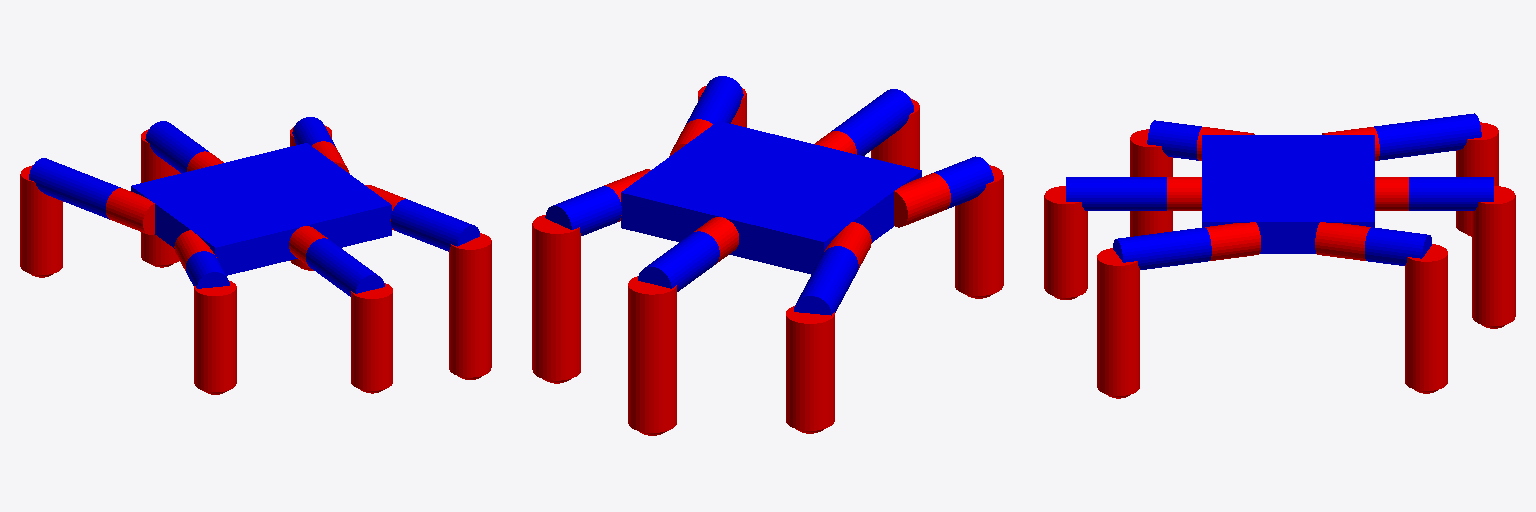
--- What the picture shows (computed from the rendered views, not written in the file) ---
3 views of the same robot in one strip: view 1: azimuth 30°, elevation 25°; view 2: azimuth 150°, elevation 25°; view 3: azimuth 270°, elevation 25° (orthographic).
Model pexod with 19 links and 18 joints (18 revolute), rooted at base_link, posed all joints at 0.
Links seen in each view (by area): view 1: base_link, leg_3_3, leg_5_3, leg_4_3, leg_0_3, leg_0_2, leg_3_2, leg_4_2, leg_1_3, leg_1_2, leg_0_1, leg_5_2 (+3 smaller); view 2: base_link, leg_2_3, leg_1_3, leg_0_3, leg_5_3, leg_1_2, leg_0_2, leg_4_2, leg_2_2, leg_5_1, leg_3_2, leg_5_2 (+5 smaller); view 3: base_link, leg_3_3, leg_2_3, leg_1_3, leg_4_3, leg_0_2, leg_4_2, leg_3_2, leg_1_2, leg_5_3, leg_0_3, leg_2_2 (+5 smaller).
Boxes of the visible links, x1=… form: base_link: x1=131, y1=143, x2=391, y2=275; leg_3_3: x1=449, y1=233, x2=491, y2=379; leg_5_3: x1=194, y1=281, x2=236, y2=394; leg_4_3: x1=351, y1=283, x2=392, y2=393; leg_0_3: x1=20, y1=165, x2=62, y2=277; leg_0_2: x1=29, y1=158, x2=120, y2=219; leg_3_2: x1=391, y1=199, x2=479, y2=251; leg_4_2: x1=306, y1=238, x2=384, y2=296; leg_1_3: x1=141, y1=129, x2=180, y2=267; leg_1_2: x1=145, y1=121, x2=208, y2=172; leg_0_1: x1=106, y1=188, x2=154, y2=234; leg_5_2: x1=186, y1=251, x2=229, y2=288; base_link: x1=621, y1=121, x2=921, y2=274; leg_2_3: x1=532, y1=215, x2=580, y2=383; leg_1_3: x1=628, y1=276, x2=676, y2=435; leg_0_3: x1=786, y1=306, x2=834, y2=433; leg_5_3: x1=955, y1=165, x2=1003, y2=298; leg_1_2: x1=638, y1=231, x2=719, y2=291; leg_0_2: x1=794, y1=246, x2=858, y2=315; leg_4_2: x1=831, y1=89, x2=913, y2=155; leg_2_2: x1=545, y1=186, x2=621, y2=235; leg_5_1: x1=894, y1=173, x2=950, y2=227; leg_3_2: x1=685, y1=76, x2=743, y2=125; leg_5_2: x1=931, y1=156, x2=993, y2=209; base_link: x1=1202, y1=135, x2=1374, y2=253; leg_3_3: x1=1097, y1=248, x2=1139, y2=398; leg_2_3: x1=1405, y1=244, x2=1447, y2=393; leg_1_3: x1=1472, y1=186, x2=1515, y2=328; leg_4_3: x1=1044, y1=186, x2=1087, y2=299; leg_0_2: x1=1374, y1=113, x2=1481, y2=160; leg_4_2: x1=1066, y1=177, x2=1166, y2=210; leg_3_2: x1=1113, y1=227, x2=1211, y2=269; leg_1_2: x1=1409, y1=177, x2=1493, y2=210; leg_5_3: x1=1130, y1=129, x2=1172, y2=236; leg_0_3: x1=1456, y1=122, x2=1498, y2=236; leg_2_2: x1=1365, y1=227, x2=1431, y2=265.
Size in the robot's own frame: 0.3935 by 0.5455 by 0.1987 metres.
Geometry: primitives only (box / cylinder / sphere), no mesh files.

The robot description file, URDF, robot "pexod":
<?xml version="1.0" ?>
<!-- =================================================================================== -->
<!-- |    This document was autogenerated by xacro from pexod.xacro                    | -->
<!-- |    EDITING THIS FILE BY HAND IS NOT RECOMMENDED                                 | -->
<!-- =================================================================================== -->
<robot name="pexod" xmlns:xacro="http://www.ros.org/wiki/xacro">
  <!-- <xacro:include filename="$(find pexod_description)/urdf/pexod_control.xacro" /> -->
  <!-- MATERIALS -->
  <material name="Blue">
    <color rgba="0 0 1 1"/>
  </material>
  <material name="Red">
    <color rgba="1 0 0 1"/>
  </material>
  <material name="Green">
    <color rgba="0 1 0 1"/>
  </material>
  <material name="Yellow">
    <color rgba="1 1 0 1"/>
  </material>
  <material name="LightGrey">
    <color rgba="0.6 0.6 0.6 1.0"/>
  </material>
  <!-- END OF MATERIALS -->
  <!-- XACRO MACROS FOR VISUALS AND COLLISIONS -->
  <!-- END OF XACRO MACROS -->
  <!-- TORSO -->
  <link name="base_link">
    <visual>
      <origin rpy="0 0 0" xyz="0 0 0"/>
      <geometry>
        <box size="0.24 0.2 0.04"/>
      </geometry>
      <material name="Blue"/>
    </visual>
    <collision>
      <origin rpy="0 0 0" xyz="0 0 0"/>
      <geometry>
        <box size="0.24 0.2 0.04"/>
      </geometry>
    </collision>
    <inertial>
      <!-- CENTER OF MASS -->
      <origin rpy="0 0 0" xyz="0 0 0"/>
      <mass value="1.031"/>
      <!-- box inertia: 1/12*m(y^2+z^2), ... -->
      <inertia ixx="0.00357413333333" ixy="0" ixz="0" iyy="0.00508626666667" iyz="0" izz="0.00838546666667"/>
    </inertial>
  </link>
  <!-- XACRO MACRO FOR LEGS LINKS/JOINTS -->
  <!-- END OF LEG LINKS/JOINTS -->
  <joint name="body_leg_2" type="revolute">
    <parent link="base_link"/>
    <child link="leg_2_1"/>
    <limit effort="30.0" lower="-1.57079632679" upper="1.57079632679" velocity="7.0"/>
    <origin rpy="0 0 -0.3" xyz="0.11 0.04 0"/>
    <!-- <xacro:if value="${index == 5 or index == 4 or index == 3}">
                <axis xyz="0 0 1"/>
            </xacro:if>
            <xacro:if value="${index == 2 or index == 1 or index == 0}"> -->
    <axis xyz="0 0 1"/>
    <!-- </xacro:if> -->
    <dynamics damping="0.0"/>
  </joint>
  <link name="leg_2_1">
    <visual>
      <origin rpy="1.57079632679 0 0" xyz="0.01 0.03 0"/>
      <geometry>
        <cylinder length="0.06" radius="0.02"/>
      </geometry>
      <material name="Red"/>
    </visual>
    <collision>
      <origin rpy="1.57079632679 0 0" xyz="0.01 0.03 0"/>
      <geometry>
        <box size="0.02 0.02 0.06"/>
      </geometry>
    </collision>
    <inertial>
      <!-- CENTER OF MASS -->
      <origin rpy="1.57079632679 0 0" xyz="0.01 0.03 0"/>
      <mass value="0.02"/>
      <!-- box inertia: 1/12*m(y^2+z^2), ... -->
      <inertia ixx="6.66666666667e-06" ixy="0" ixz="0" iyy="6.66666666667e-06" iyz="0" izz="1.33333333333e-06"/>
    </inertial>
  </link>
  <joint name="leg_2_1_2" type="revolute">
    <parent link="leg_2_1"/>
    <child link="leg_2_2"/>
    <limit effort="30.0" lower="-0.78539816339" upper="0.78539816339" velocity="7.0"/>
    <origin rpy="0 0 0" xyz="0 0.06 0"/>
    <axis xyz="1 0 0"/>
    <dynamics damping="0.0"/>
  </joint>
  <link name="leg_2_2">
    <visual>
      <origin rpy="1.57079632679 0 0" xyz="0.01 0.034887120099 0"/>
      <geometry>
        <cylinder length="0.069774240198" radius="0.02"/>
      </geometry>
      <material name="Blue"/>
    </visual>
    <collision>
      <origin rpy="1.57079632679 0 0" xyz="0.01 0.034887120099 0"/>
      <geometry>
        <box size="0.02 0.02 0.069774240198"/>
      </geometry>
    </collision>
    <inertial>
      <!-- CENTER OF MASS -->
      <origin rpy="1.57079632679 0 0" xyz="0.01 0.034887120099 0"/>
      <mass value="0.184"/>
      <!-- box inertia: 1/12*m(y^2+z^2), ... -->
      <inertia ixx="8.07828171265e-05" ixy="0" ixz="0" iyy="8.07828171265e-05" iyz="0" izz="1.22666666667e-05"/>
    </inertial>
  </link>
  <joint name="leg_2_2_3" type="revolute">
    <parent link="leg_2_2"/>
    <child link="leg_2_3"/>
    <limit effort="30.0" lower="-0.78539816339" upper="0.78539816339" velocity="7.0"/>
    <origin rpy="-1.57079632679 0 0" xyz="0 0.069774240198 0"/>
    <axis xyz="-1 0 0"/>
    <dynamics damping="0.0"/>
  </joint>
  <link name="leg_2_3">
    <visual>
      <origin rpy="1.57079632679 0 0" xyz="0.0125 0.082605903837 0"/>
      <geometry>
        <cylinder length="0.165211807674" radius="0.025"/>
      </geometry>
      <material name="Red"/>
    </visual>
    <visual>
      <origin rpy="1.57079632679 0 0" xyz="0.0125 0.152711807674 0"/>
      <geometry>
        <sphere radius="0.025"/>
      </geometry>
      <material name="Red"/>
    </visual>
    <collision>
      <origin rpy="1.57079632679 0 0" xyz="0.0125 0.082605903837 0"/>
      <geometry>
        <box size="0.025 0.025 0.165211807674"/>
      </geometry>
    </collision>
    <collision>
      <origin rpy="1.57079632679 0 0" xyz="0.0125 0.152711807674 0"/>
      <geometry>
        <sphere radius="0.025"/>
      </geometry>
      <material name="Red"/>
    </collision>
    <inertial>
      <!-- CENTER OF MASS -->
      <origin rpy="1.57079632679 0 0" xyz="0.0125 0.082605903837 0"/>
      <mass value="0.04"/>
      <!-- box inertia: 1/12*m(y^2+z^2), ... -->
      <inertia ixx="9.30664713164e-05" ixy="0" ixz="0" iyy="9.30664713164e-05" iyz="0" izz="4.16666666667e-06"/>
    </inertial>
  </link>
  <joint name="body_leg_3" type="revolute">
    <parent link="base_link"/>
    <child link="leg_3_1"/>
    <limit effort="30.0" lower="-1.57079632679" upper="1.57079632679" velocity="7.0"/>
    <origin rpy="0 0 0.3" xyz="0.11 -0.04 0"/>
    <!-- <xacro:if value="${index == 5 or index == 4 or index == 3}">
                <axis xyz="0 0 1"/>
            </xacro:if>
            <xacro:if value="${index == 2 or index == 1 or index == 0}"> -->
    <axis xyz="0 0 1"/>
    <!-- </xacro:if> -->
    <dynamics damping="0.0"/>
  </joint>
  <link name="leg_3_1">
    <visual>
      <origin rpy="1.57079632679 0 0" xyz="0.01 -0.03 0"/>
      <geometry>
        <cylinder length="0.06" radius="0.02"/>
      </geometry>
      <material name="Red"/>
    </visual>
    <collision>
      <origin rpy="1.57079632679 0 0" xyz="0.01 -0.03 0"/>
      <geometry>
        <box size="0.02 0.02 0.06"/>
      </geometry>
    </collision>
    <inertial>
      <!-- CENTER OF MASS -->
      <origin rpy="1.57079632679 0 0" xyz="0.01 -0.03 0"/>
      <mass value="0.02"/>
      <!-- box inertia: 1/12*m(y^2+z^2), ... -->
      <inertia ixx="6.66666666667e-06" ixy="0" ixz="0" iyy="6.66666666667e-06" iyz="0" izz="1.33333333333e-06"/>
    </inertial>
  </link>
  <joint name="leg_3_1_2" type="revolute">
    <parent link="leg_3_1"/>
    <child link="leg_3_2"/>
    <limit effort="30.0" lower="-0.78539816339" upper="0.78539816339" velocity="7.0"/>
    <origin rpy="0 0 0" xyz="0 -0.06 0"/>
    <axis xyz="-1 0 0"/>
    <dynamics damping="0.0"/>
  </joint>
  <link name="leg_3_2">
    <visual>
      <origin rpy="1.57079632679 0 0" xyz="0.01 -0.053674928285 0"/>
      <geometry>
        <cylinder length="0.10734985657" radius="0.02"/>
      </geometry>
      <material name="Blue"/>
    </visual>
    <collision>
      <origin rpy="1.57079632679 0 0" xyz="0.01 -0.053674928285 0"/>
      <geometry>
        <box size="0.02 0.02 0.10734985657"/>
      </geometry>
    </collision>
    <inertial>
      <!-- CENTER OF MASS -->
      <origin rpy="1.57079632679 0 0" xyz="0.01 -0.053674928285 0"/>
      <mass value="0.184"/>
      <!-- box inertia: 1/12*m(y^2+z^2), ... -->
      <inertia ixx="0.000182834539486" ixy="0" ixz="0" iyy="0.000182834539486" iyz="0" izz="1.22666666667e-05"/>
    </inertial>
  </link>
  <joint name="leg_3_2_3" type="revolute">
    <parent link="leg_3_2"/>
    <child link="leg_3_3"/>
    <limit effort="30.0" lower="-0.78539816339" upper="0.78539816339" velocity="7.0"/>
    <origin rpy="1.57079632679 0 0" xyz="0 -0.10734985657 0"/>
    <axis xyz="1 0 0"/>
    <dynamics damping="0.0"/>
  </joint>
  <link name="leg_3_3">
    <visual>
      <origin rpy="1.57079632679 0 0" xyz="0.0125 -0.0831220686235 0"/>
      <geometry>
        <cylinder length="0.166244137247" radius="0.025"/>
      </geometry>
      <material name="Red"/>
    </visual>
    <visual>
      <origin rpy="1.57079632679 0 0" xyz="0.0125 -0.153744137247 0"/>
      <geometry>
        <sphere radius="0.025"/>
      </geometry>
      <material name="Red"/>
    </visual>
    <collision>
      <origin rpy="1.57079632679 0 0" xyz="0.0125 -0.0831220686235 0"/>
      <geometry>
        <box size="0.025 0.025 0.166244137247"/>
      </geometry>
    </collision>
    <collision>
      <origin rpy="1.57079632679 0 0" xyz="0.0125 -0.153744137247 0"/>
      <geometry>
        <sphere radius="0.025"/>
      </geometry>
      <material name="Red"/>
    </collision>
    <inertial>
      <!-- CENTER OF MASS -->
      <origin rpy="1.57079632679 0 0" xyz="0.0125 -0.0831220686235 0"/>
      <mass value="0.04"/>
      <!-- box inertia: 1/12*m(y^2+z^2), ... -->
      <inertia ixx="9.42070438967e-05" ixy="0" ixz="0" iyy="9.42070438967e-05" iyz="0" izz="4.16666666667e-06"/>
    </inertial>
  </link>
  <joint name="body_leg_0" type="revolute">
    <parent link="base_link"/>
    <child link="leg_0_1"/>
    <limit effort="30.0" lower="-1.57079632679" upper="1.57079632679" velocity="7.0"/>
    <origin rpy="0 0 0.3" xyz="-0.13 0.04 0"/>
    <!-- <xacro:if value="${index == 5 or index == 4 or index == 3}">
                <axis xyz="0 0 1"/>
            </xacro:if>
            <xacro:if value="${index == 2 or index == 1 or index == 0}"> -->
    <axis xyz="0 0 1"/>
    <!-- </xacro:if> -->
    <dynamics damping="0.0"/>
  </joint>
  <link name="leg_0_1">
    <visual>
      <origin rpy="1.57079632679 0 0" xyz="0.01 0.03 0"/>
      <geometry>
        <cylinder length="0.06" radius="0.02"/>
      </geometry>
      <material name="Red"/>
    </visual>
    <collision>
      <origin rpy="1.57079632679 0 0" xyz="0.01 0.03 0"/>
      <geometry>
        <box size="0.02 0.02 0.06"/>
      </geometry>
    </collision>
    <inertial>
      <!-- CENTER OF MASS -->
      <origin rpy="1.57079632679 0 0" xyz="0.01 0.03 0"/>
      <mass value="0.02"/>
      <!-- box inertia: 1/12*m(y^2+z^2), ... -->
      <inertia ixx="6.66666666667e-06" ixy="0" ixz="0" iyy="6.66666666667e-06" iyz="0" izz="1.33333333333e-06"/>
    </inertial>
  </link>
  <joint name="leg_0_1_2" type="revolute">
    <parent link="leg_0_1"/>
    <child link="leg_0_2"/>
    <limit effort="30.0" lower="-0.78539816339" upper="0.78539816339" velocity="7.0"/>
    <origin rpy="0 0 0" xyz="0 0.06 0"/>
    <axis xyz="1 0 0"/>
    <dynamics damping="0.0"/>
  </joint>
  <link name="leg_0_2">
    <visual>
      <origin rpy="1.57079632679 0 0" xyz="0.01 0.0617747497725 0"/>
      <geometry>
        <cylinder length="0.123549499545" radius="0.02"/>
      </geometry>
      <material name="Blue"/>
    </visual>
    <collision>
      <origin rpy="1.57079632679 0 0" xyz="0.01 0.0617747497725 0"/>
      <geometry>
        <box size="0.02 0.02 0.123549499545"/>
      </geometry>
    </collision>
    <inertial>
      <!-- CENTER OF MASS -->
      <origin rpy="1.57079632679 0 0" xyz="0.01 0.0617747497725 0"/>
      <mass value="0.184"/>
      <!-- box inertia: 1/12*m(y^2+z^2), ... -->
      <inertia ixx="0.000240188675513" ixy="0" ixz="0" iyy="0.000240188675513" iyz="0" izz="1.22666666667e-05"/>
    </inertial>
  </link>
  <joint name="leg_0_2_3" type="revolute">
    <parent link="leg_0_2"/>
    <child link="leg_0_3"/>
    <limit effort="30.0" lower="-0.78539816339" upper="0.78539816339" velocity="7.0"/>
    <origin rpy="-1.57079632679 0 0" xyz="0 0.123549499545 0"/>
    <axis xyz="-1 0 0"/>
    <dynamics damping="0.0"/>
  </joint>
  <link name="leg_0_3">
    <visual>
      <origin rpy="1.57079632679 0 0" xyz="0.0125 0.060247364143 0"/>
      <geometry>
        <cylinder length="0.120494728286" radius="0.025"/>
      </geometry>
      <material name="Red"/>
    </visual>
    <visual>
      <origin rpy="1.57079632679 0 0" xyz="0.0125 0.107994728286 0"/>
      <geometry>
        <sphere radius="0.025"/>
      </geometry>
      <material name="Red"/>
    </visual>
    <collision>
      <origin rpy="1.57079632679 0 0" xyz="0.0125 0.060247364143 0"/>
      <geometry>
        <box size="0.025 0.025 0.120494728286"/>
      </geometry>
    </collision>
    <collision>
      <origin rpy="1.57079632679 0 0" xyz="0.0125 0.107994728286 0"/>
      <geometry>
        <sphere radius="0.025"/>
      </geometry>
      <material name="Red"/>
    </collision>
    <inertial>
      <!-- CENTER OF MASS -->
      <origin rpy="1.57079632679 0 0" xyz="0.0125 0.060247364143 0"/>
      <mass value="0.04"/>
      <!-- box inertia: 1/12*m(y^2+z^2), ... -->
      <inertia ixx="5.04799318157e-05" ixy="0" ixz="0" iyy="5.04799318157e-05" iyz="0" izz="4.16666666667e-06"/>
    </inertial>
  </link>
  <joint name="body_leg_5" type="revolute">
    <parent link="base_link"/>
    <child link="leg_5_1"/>
    <limit effort="30.0" lower="-1.57079632679" upper="1.57079632679" velocity="7.0"/>
    <origin rpy="0 0 -0.3" xyz="-0.13 -0.04 0"/>
    <!-- <xacro:if value="${index == 5 or index == 4 or index == 3}">
                <axis xyz="0 0 1"/>
            </xacro:if>
            <xacro:if value="${index == 2 or index == 1 or index == 0}"> -->
    <axis xyz="0 0 1"/>
    <!-- </xacro:if> -->
    <dynamics damping="0.0"/>
  </joint>
  <link name="leg_5_1">
    <visual>
      <origin rpy="1.57079632679 0 0" xyz="0.01 -0.03 0"/>
      <geometry>
        <cylinder length="0.06" radius="0.02"/>
      </geometry>
      <material name="Red"/>
    </visual>
    <collision>
      <origin rpy="1.57079632679 0 0" xyz="0.01 -0.03 0"/>
      <geometry>
        <box size="0.02 0.02 0.06"/>
      </geometry>
    </collision>
    <inertial>
      <!-- CENTER OF MASS -->
      <origin rpy="1.57079632679 0 0" xyz="0.01 -0.03 0"/>
      <mass value="0.02"/>
      <!-- box inertia: 1/12*m(y^2+z^2), ... -->
      <inertia ixx="6.66666666667e-06" ixy="0" ixz="0" iyy="6.66666666667e-06" iyz="0" izz="1.33333333333e-06"/>
    </inertial>
  </link>
  <joint name="leg_5_1_2" type="revolute">
    <parent link="leg_5_1"/>
    <child link="leg_5_2"/>
    <limit effort="30.0" lower="-0.78539816339" upper="0.78539816339" velocity="7.0"/>
    <origin rpy="0 0 0" xyz="0 -0.06 0"/>
    <axis xyz="-1 0 0"/>
    <dynamics damping="0.0"/>
  </joint>
  <link name="leg_5_2">
    <visual>
      <origin rpy="1.57079632679 0 0" xyz="0.01 -0.029818570301 0"/>
      <geometry>
        <cylinder length="0.0596371406019" radius="0.02"/>
      </geometry>
      <material name="Blue"/>
    </visual>
    <collision>
      <origin rpy="1.57079632679 0 0" xyz="0.01 -0.029818570301 0"/>
      <geometry>
        <box size="0.02 0.02 0.0596371406019"/>
      </geometry>
    </collision>
    <inertial>
      <!-- CENTER OF MASS -->
      <origin rpy="1.57079632679 0 0" xyz="0.01 -0.029818570301 0"/>
      <mass value="0.184"/>
      <!-- box inertia: 1/12*m(y^2+z^2), ... -->
      <inertia ixx="6.0667690934e-05" ixy="0" ixz="0" iyy="6.0667690934e-05" iyz="0" izz="1.22666666667e-05"/>
    </inertial>
  </link>
  <joint name="leg_5_2_3" type="revolute">
    <parent link="leg_5_2"/>
    <child link="leg_5_3"/>
    <limit effort="30.0" lower="-0.78539816339" upper="0.78539816339" velocity="7.0"/>
    <origin rpy="1.57079632679 0 0" xyz="0 -0.0596371406019 0"/>
    <axis xyz="1 0 0"/>
    <dynamics damping="0.0"/>
  </joint>
  <link name="leg_5_3">
    <visual>
      <origin rpy="1.57079632679 0 0" xyz="0.0125 -0.062587784669 0"/>
      <geometry>
        <cylinder length="0.125175569338" radius="0.025"/>
      </geometry>
      <material name="Red"/>
    </visual>
    <visual>
      <origin rpy="1.57079632679 0 0" xyz="0.0125 -0.112675569338 0"/>
      <geometry>
        <sphere radius="0.025"/>
      </geometry>
      <material name="Red"/>
    </visual>
    <collision>
      <origin rpy="1.57079632679 0 0" xyz="0.0125 -0.062587784669 0"/>
      <geometry>
        <box size="0.025 0.025 0.125175569338"/>
      </geometry>
    </collision>
    <collision>
      <origin rpy="1.57079632679 0 0" xyz="0.0125 -0.112675569338 0"/>
      <geometry>
        <sphere radius="0.025"/>
      </geometry>
      <material name="Red"/>
    </collision>
    <inertial>
      <!-- CENTER OF MASS -->
      <origin rpy="1.57079632679 0 0" xyz="0.0125 -0.062587784669 0"/>
      <mass value="0.04"/>
      <!-- box inertia: 1/12*m(y^2+z^2), ... -->
      <inertia ixx="5.4313077197e-05" ixy="0" ixz="0" iyy="5.4313077197e-05" iyz="0" izz="4.16666666667e-06"/>
    </inertial>
  </link>
  <joint name="body_leg_1" type="revolute">
    <parent link="base_link"/>
    <child link="leg_1_1"/>
    <limit effort="30.0" lower="-1.57079632679" upper="1.57079632679" velocity="7.0"/>
    <origin rpy="0 0 0" xyz="-0.01 0.08 0"/>
    <!-- <xacro:if value="${index == 5 or index == 4 or index == 3}">
                <axis xyz="0 0 1"/>
            </xacro:if>
            <xacro:if value="${index == 2 or index == 1 or index == 0}"> -->
    <axis xyz="0 0 1"/>
    <!-- </xacro:if> -->
    <dynamics damping="0.0"/>
  </joint>
  <link name="leg_1_1">
    <visual>
      <origin rpy="1.57079632679 0 0" xyz="0.01 0.03 0"/>
      <geometry>
        <cylinder length="0.06" radius="0.02"/>
      </geometry>
      <material name="Red"/>
    </visual>
    <collision>
      <origin rpy="1.57079632679 0 0" xyz="0.01 0.03 0"/>
      <geometry>
        <box size="0.02 0.02 0.06"/>
      </geometry>
    </collision>
    <inertial>
      <!-- CENTER OF MASS -->
      <origin rpy="1.57079632679 0 0" xyz="0.01 0.03 0"/>
      <mass value="0.02"/>
      <!-- box inertia: 1/12*m(y^2+z^2), ... -->
      <inertia ixx="6.66666666667e-06" ixy="0" ixz="0" iyy="6.66666666667e-06" iyz="0" izz="1.33333333333e-06"/>
    </inertial>
  </link>
  <joint name="leg_1_1_2" type="revolute">
    <parent link="leg_1_1"/>
    <child link="leg_1_2"/>
    <limit effort="30.0" lower="-0.78539816339" upper="0.78539816339" velocity="7.0"/>
    <origin rpy="0 0 0" xyz="0 0.06 0"/>
    <axis xyz="1 0 0"/>
    <dynamics damping="0.0"/>
  </joint>
  <link name="leg_1_2">
    <visual>
      <origin rpy="1.57079632679 0 0" xyz="0.01 0.0491351967592 0"/>
      <geometry>
        <cylinder length="0.0982703935184" radius="0.02"/>
      </geometry>
      <material name="Blue"/>
    </visual>
    <collision>
      <origin rpy="1.57079632679 0 0" xyz="0.01 0.0491351967592 0"/>
      <geometry>
        <box size="0.02 0.02 0.0982703935184"/>
      </geometry>
    </collision>
    <inertial>
      <!-- CENTER OF MASS -->
      <origin rpy="1.57079632679 0 0" xyz="0.01 0.0491351967592 0"/>
      <mass value="0.184"/>
      <!-- box inertia: 1/12*m(y^2+z^2), ... -->
      <inertia ixx="0.000154208410381" ixy="0" ixz="0" iyy="0.000154208410381" iyz="0" izz="1.22666666667e-05"/>
    </inertial>
  </link>
  <joint name="leg_1_2_3" type="revolute">
    <parent link="leg_1_2"/>
    <child link="leg_1_3"/>
    <limit effort="30.0" lower="-0.78539816339" upper="0.78539816339" velocity="7.0"/>
    <origin rpy="-1.57079632679 0 0" xyz="0 0.0982703935184 0"/>
    <axis xyz="-1 0 0"/>
    <dynamics damping="0.0"/>
  </joint>
  <link name="leg_1_3">
    <visual>
      <origin rpy="1.57079632679 0 0" xyz="0.0125 0.0779475723155 0"/>
      <geometry>
        <cylinder length="0.155895144631" radius="0.025"/>
      </geometry>
      <material name="Red"/>
    </visual>
    <visual>
      <origin rpy="1.57079632679 0 0" xyz="0.0125 0.143395144631 0"/>
      <geometry>
        <sphere radius="0.025"/>
      </geometry>
      <material name="Red"/>
    </visual>
    <collision>
      <origin rpy="1.57079632679 0 0" xyz="0.0125 0.0779475723155 0"/>
      <geometry>
        <box size="0.025 0.025 0.155895144631"/>
      </geometry>
    </collision>
    <collision>
      <origin rpy="1.57079632679 0 0" xyz="0.0125 0.143395144631 0"/>
      <geometry>
        <sphere radius="0.025"/>
      </geometry>
      <material name="Red"/>
    </collision>
    <inertial>
      <!-- CENTER OF MASS -->
      <origin rpy="1.57079632679 0 0" xyz="0.0125 0.0779475723155 0"/>
      <mass value="0.04"/>
      <!-- box inertia: 1/12*m(y^2+z^2), ... -->
      <inertia ixx="8.30943203984e-05" ixy="0" ixz="0" iyy="8.30943203984e-05" iyz="0" izz="4.16666666667e-06"/>
    </inertial>
  </link>
  <joint name="body_leg_4" type="revolute">
    <parent link="base_link"/>
    <child link="leg_4_1"/>
    <limit effort="30.0" lower="-1.57079632679" upper="1.57079632679" velocity="7.0"/>
    <origin rpy="0 0 0" xyz="-0.01 -0.08 0"/>
    <!-- <xacro:if value="${index == 5 or index == 4 or index == 3}">
                <axis xyz="0 0 1"/>
            </xacro:if>
            <xacro:if value="${index == 2 or index == 1 or index == 0}"> -->
    <axis xyz="0 0 1"/>
    <!-- </xacro:if> -->
    <dynamics damping="0.0"/>
  </joint>
  <link name="leg_4_1">
    <visual>
      <origin rpy="1.57079632679 0 0" xyz="0.01 -0.03 0"/>
      <geometry>
        <cylinder length="0.06" radius="0.02"/>
      </geometry>
      <material name="Red"/>
    </visual>
    <collision>
      <origin rpy="1.57079632679 0 0" xyz="0.01 -0.03 0"/>
      <geometry>
        <box size="0.02 0.02 0.06"/>
      </geometry>
    </collision>
    <inertial>
      <!-- CENTER OF MASS -->
      <origin rpy="1.57079632679 0 0" xyz="0.01 -0.03 0"/>
      <mass value="0.02"/>
      <!-- box inertia: 1/12*m(y^2+z^2), ... -->
      <inertia ixx="6.66666666667e-06" ixy="0" ixz="0" iyy="6.66666666667e-06" iyz="0" izz="1.33333333333e-06"/>
    </inertial>
  </link>
  <joint name="leg_4_1_2" type="revolute">
    <parent link="leg_4_1"/>
    <child link="leg_4_2"/>
    <limit effort="30.0" lower="-0.78539816339" upper="0.78539816339" velocity="7.0"/>
    <origin rpy="0 0 0" xyz="0 -0.06 0"/>
    <axis xyz="-1 0 0"/>
    <dynamics damping="0.0"/>
  </joint>
  <link name="leg_4_2">
    <visual>
      <origin rpy="1.57079632679 0 0" xyz="0.01 -0.0586192455415 0"/>
      <geometry>
        <cylinder length="0.117238491083" radius="0.02"/>
      </geometry>
      <material name="Blue"/>
    </visual>
    <collision>
      <origin rpy="1.57079632679 0 0" xyz="0.01 -0.0586192455415 0"/>
      <geometry>
        <box size="0.02 0.02 0.117238491083"/>
      </geometry>
    </collision>
    <inertial>
      <!-- CENTER OF MASS -->
      <origin rpy="1.57079632679 0 0" xyz="0.01 -0.0586192455415 0"/>
      <mass value="0.184"/>
      <!-- box inertia: 1/12*m(y^2+z^2), ... -->
      <inertia ixx="0.000216887911468" ixy="0" ixz="0" iyy="0.000216887911468" iyz="0" izz="1.22666666667e-05"/>
    </inertial>
  </link>
  <joint name="leg_4_2_3" type="revolute">
    <parent link="leg_4_2"/>
    <child link="leg_4_3"/>
    <limit effort="30.0" lower="-0.78539816339" upper="0.78539816339" velocity="7.0"/>
    <origin rpy="1.57079632679 0 0" xyz="0 -0.117238491083 0"/>
    <axis xyz="1 0 0"/>
    <dynamics damping="0.0"/>
  </joint>
  <link name="leg_4_3">
    <visual>
      <origin rpy="1.57079632679 0 0" xyz="0.0125 -0.05976157428 0"/>
      <geometry>
        <cylinder length="0.11952314856" radius="0.025"/>
      </geometry>
      <material name="Red"/>
    </visual>
    <visual>
      <origin rpy="1.57079632679 0 0" xyz="0.0125 -0.10702314856 0"/>
      <geometry>
        <sphere radius="0.025"/>
      </geometry>
      <material name="Red"/>
    </visual>
    <collision>
      <origin rpy="1.57079632679 0 0" xyz="0.0125 -0.05976157428 0"/>
      <geometry>
        <box size="0.025 0.025 0.11952314856"/>
      </geometry>
    </collision>
    <collision>
      <origin rpy="1.57079632679 0 0" xyz="0.0125 -0.10702314856 0"/>
      <geometry>
        <sphere radius="0.025"/>
      </geometry>
      <material name="Red"/>
    </collision>
    <inertial>
      <!-- CENTER OF MASS -->
      <origin rpy="1.57079632679 0 0" xyz="0.0125 -0.05976157428 0"/>
      <mass value="0.04"/>
      <!-- box inertia: 1/12*m(y^2+z^2), ... -->
      <inertia ixx="4.9702610139e-05" ixy="0" ixz="0" iyy="4.9702610139e-05" iyz="0" izz="4.16666666667e-06"/>
    </inertial>
  </link>
  <!-- END OF LEG LINKS/JOINTS -->
</robot>
